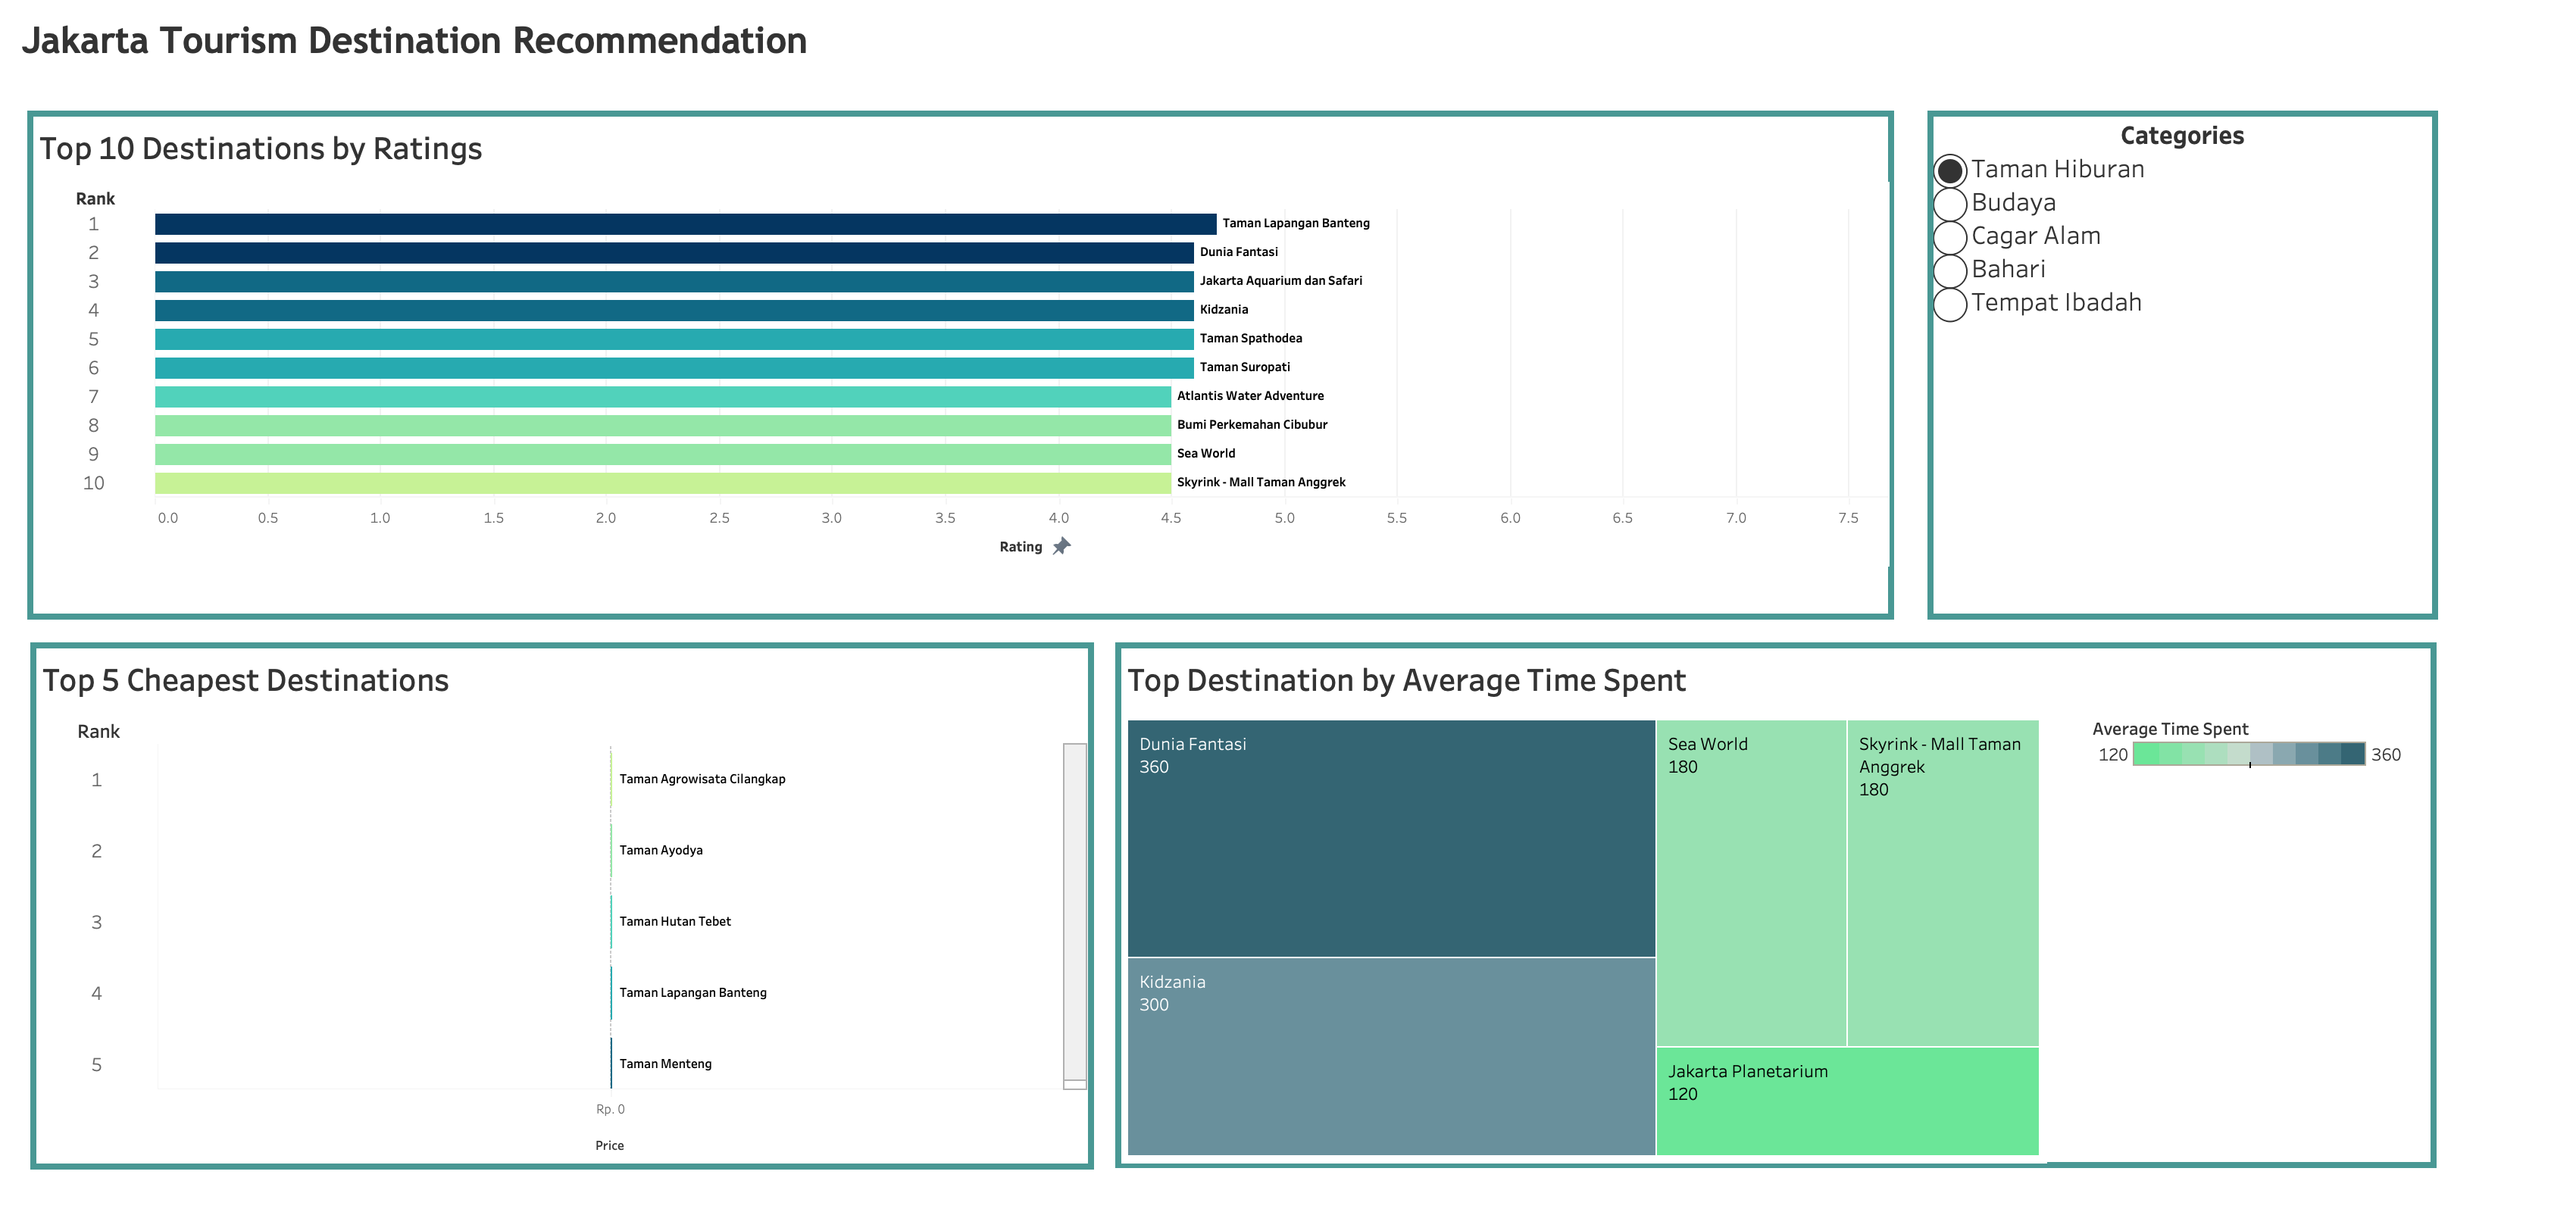

What the dashboard file says about the page in this screenshot:
{"tool":"tableau","page":{"name":"Dash Board Jakarta","canvas":[1700,800],"ordinal":1},"visuals":[{"type":"title","box":[8,8,1684,50]},{"type":"blank","box":[60,60,542,266]},{"type":"worksheet","title":"Top Rated Places (Jakarta) ","mark":"Automatic","cols":["Rating"],"box":[18,73,1232,336]},{"type":"parameter","param":"[Parameters].[Parameter 1]","box":[1272,73,337,336]},{"type":"worksheet","title":"Cheapest Places (Jakarta)","mark":"Automatic","cols":["Price"],"box":[20,424,702,348]},{"type":"worksheet","title":"Average Time Spend (Jakarta)","mark":"Automatic","box":[736,424,872,347]},{"type":"legend","title":"Average Time Spend (Jakarta)","param":"[federated.07echau0cc9wpq1a99yee0hrih15].[usr:Calculation_1931199867067944968:qk","box":[1381,469,209,92]}]}

Visuals, with their boxes in screenshot pixels (x1, y1, x2, y2), scaled from the page's 1700x800 canvas onto the 2576x1212 screenshot:
title: (12, 12, 2564, 88)
blank: (91, 91, 912, 494)
"Top Rated Places (Jakarta) " worksheet: (27, 111, 1894, 620)
parameter: (1927, 111, 2438, 620)
"Cheapest Places (Jakarta)" worksheet: (30, 642, 1094, 1170)
"Average Time Spend (Jakarta)" worksheet: (1115, 642, 2437, 1168)
"Average Time Spend (Jakarta)" legend: (2093, 711, 2409, 850)
